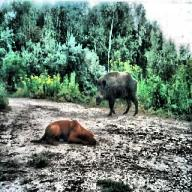boar: (94, 70, 138, 116), (30, 119, 96, 145)
